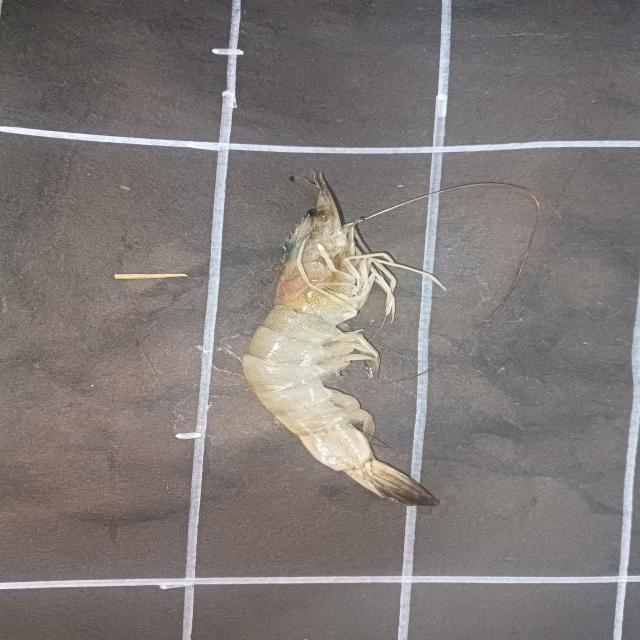shrimp: (241, 175, 438, 505)
